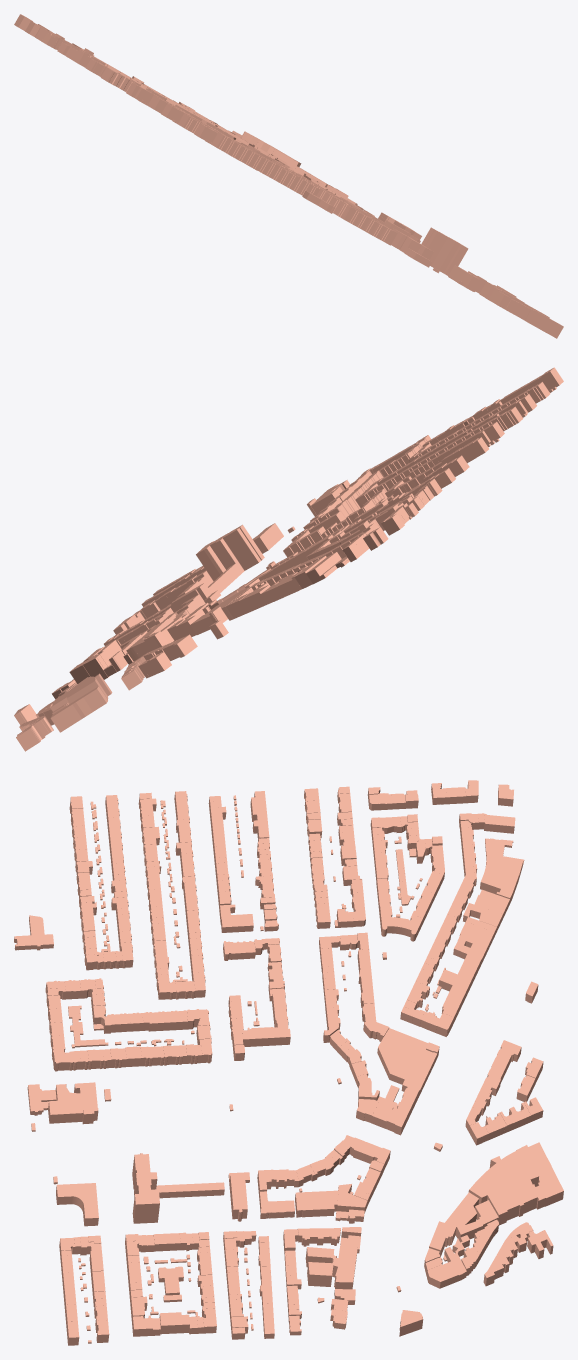
3 views of the same model, one above another, from view 1: azimuth 30°, elevation 25°; view 2: azimuth 150°, elevation 25°; view 3: azimuth 270°, elevation 25° (orthographic). The views are drawn at different scales.
Size of the model in its own units: 523 by 382 by 542.
